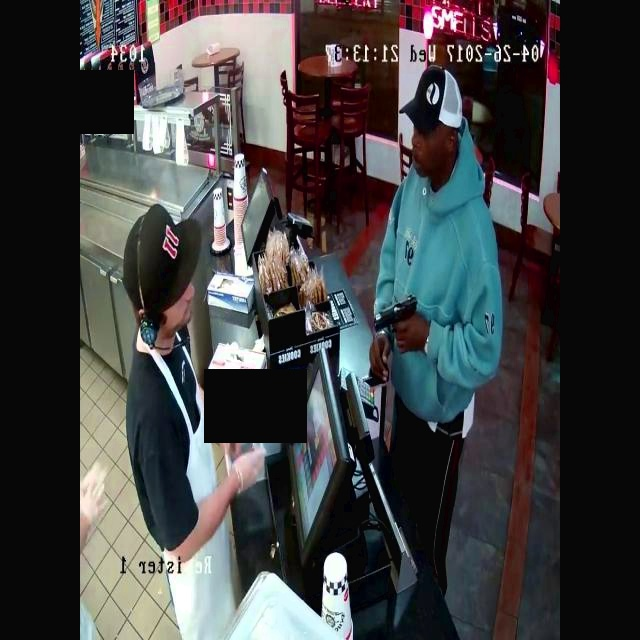gun: (362, 272, 432, 355)
